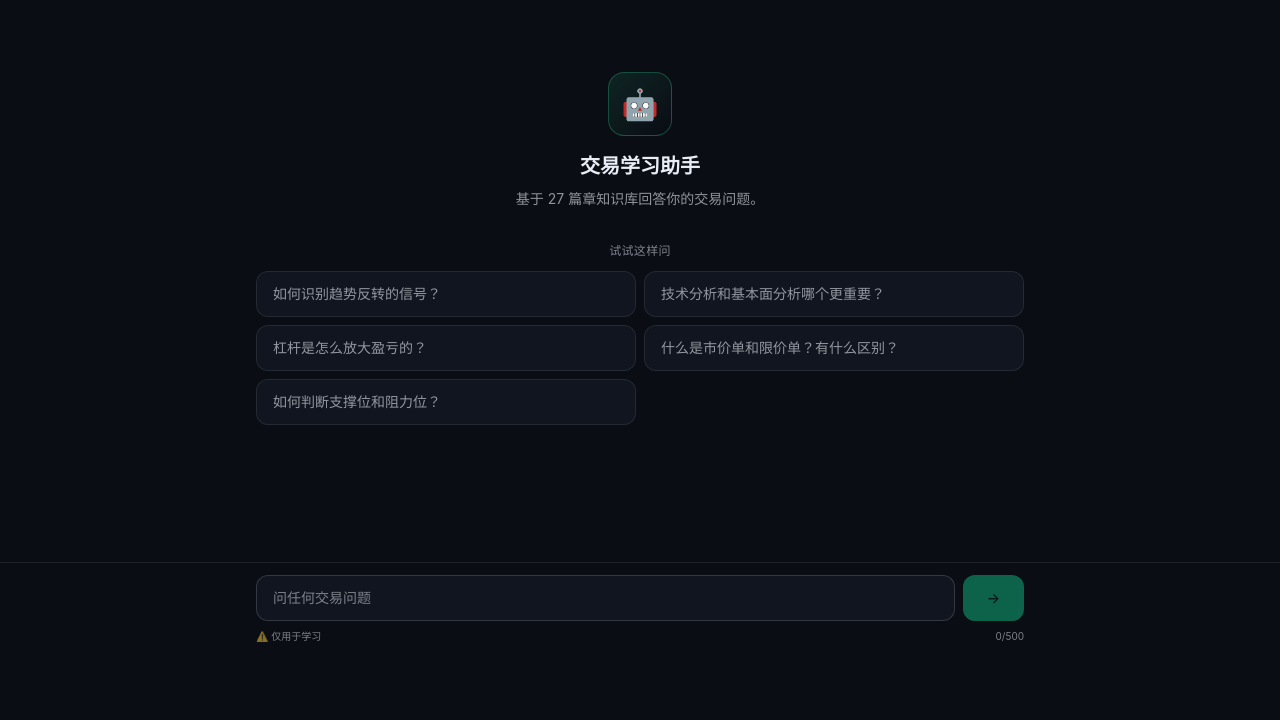
AiChat 回答操作与对话管理 › 点击简化/例子快捷操作会发送对应追问
This screenshot has width=1280, height=720.
What coordinates should you click on to do the following:
click the button "如何识别趋势反转的信号？"
I would click on:
 (357, 293)
Its box is left=256, top=271, right=636, bottom=317.
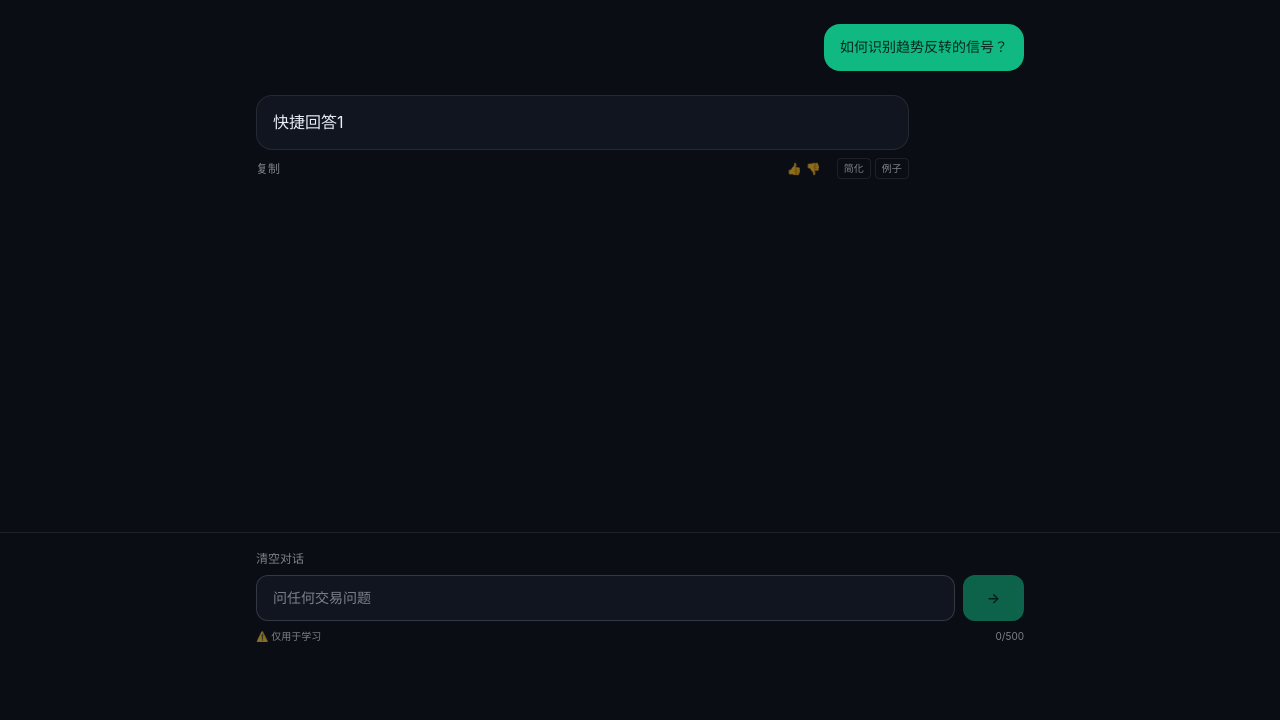
Check: the text "快捷回答1" is shown, box left=273, top=112, right=344, bottom=132
What coordinates should you click on to do the following:
click the button "简化"
I would click on:
 (854, 169)
Its box is left=837, top=158, right=871, bottom=179.
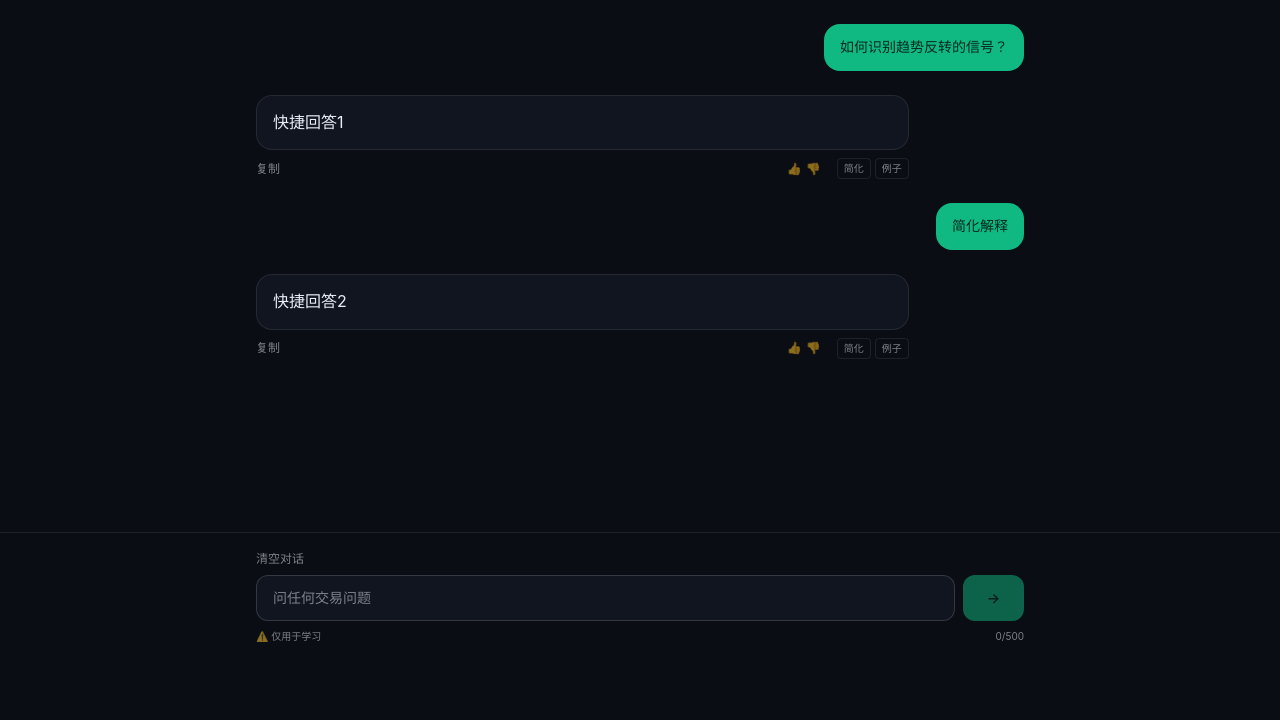
Check: the text "简化解释" is shown, box left=952, top=215, right=1008, bottom=238
What coordinates should you click on to do the following:
click the 2nd button "例子"
I would click on:
 (892, 348)
Its box is left=875, top=338, right=909, bottom=359.
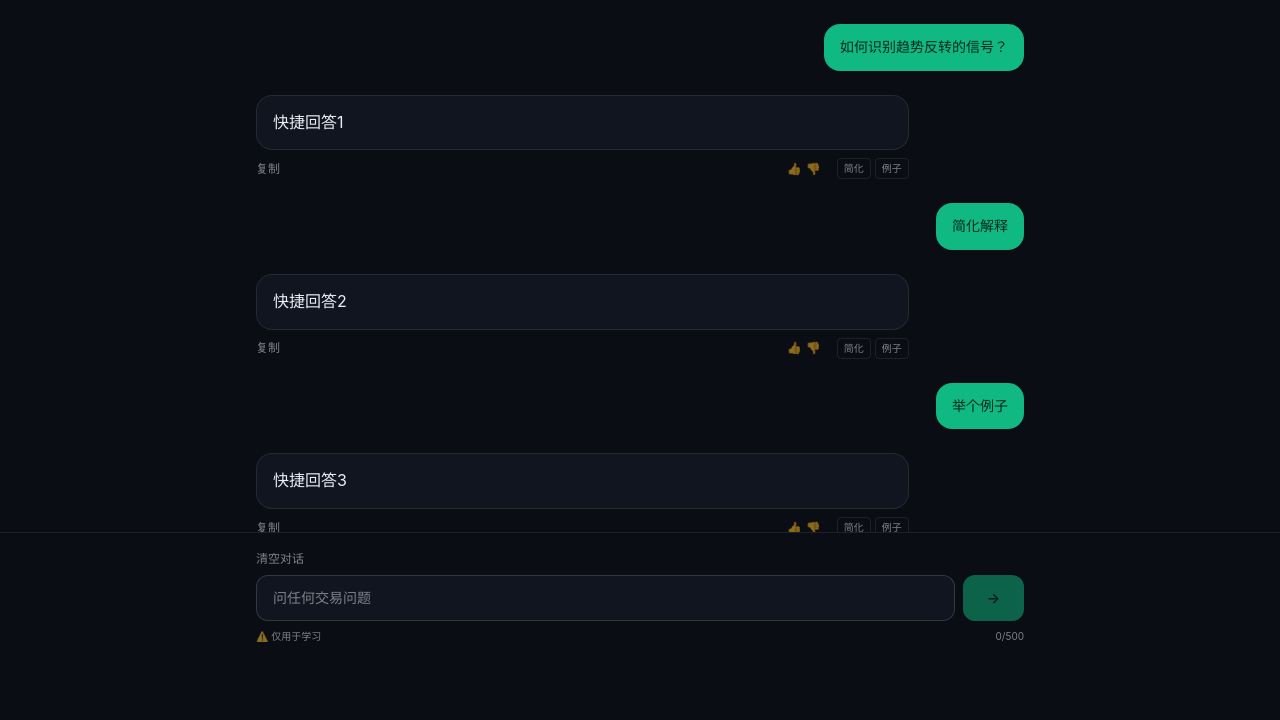
Check: the text "举个例子" is shown, box left=952, top=395, right=1008, bottom=418
